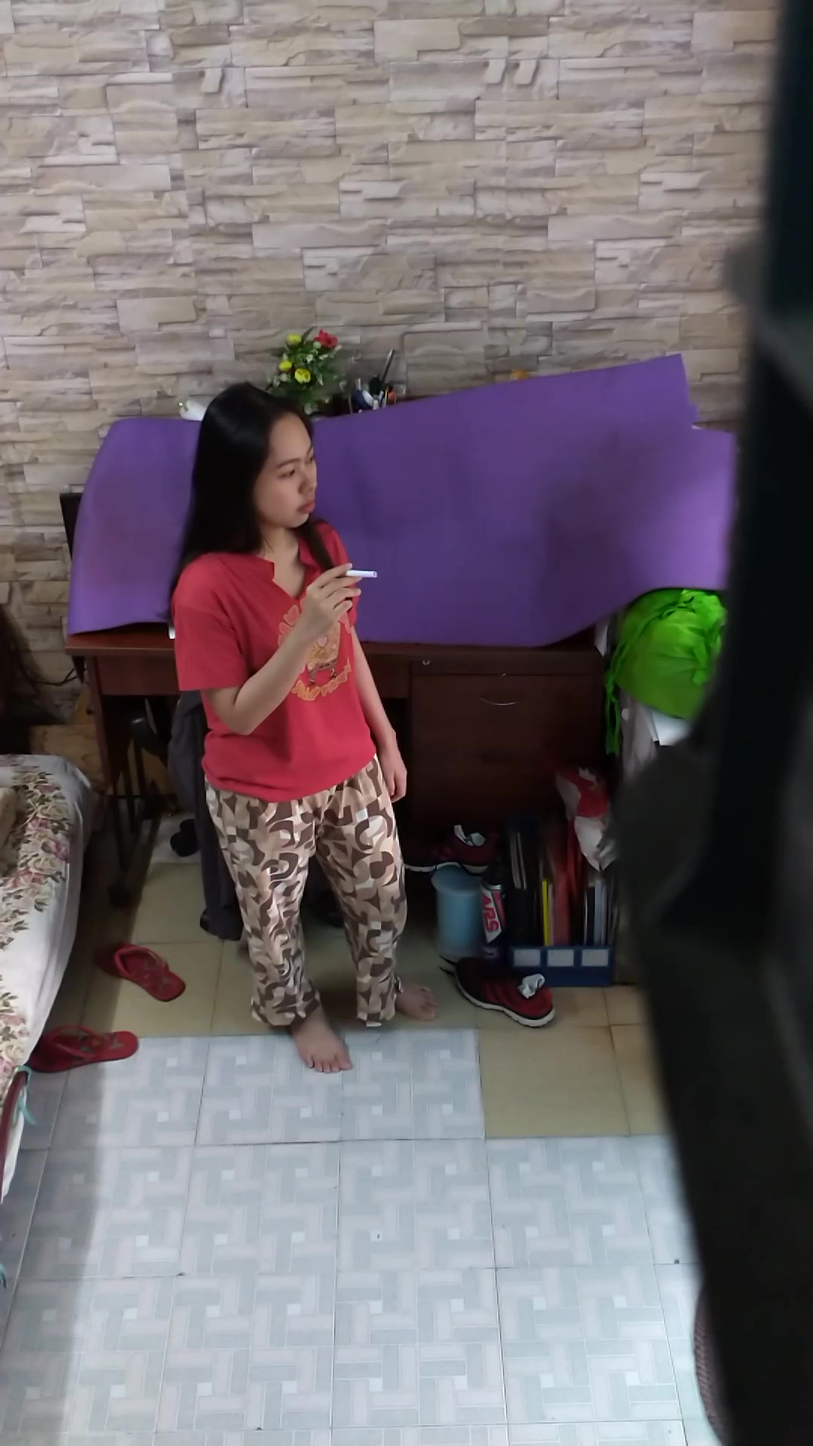cigarette: (347, 566, 382, 582)
person: (171, 380, 419, 1063)
